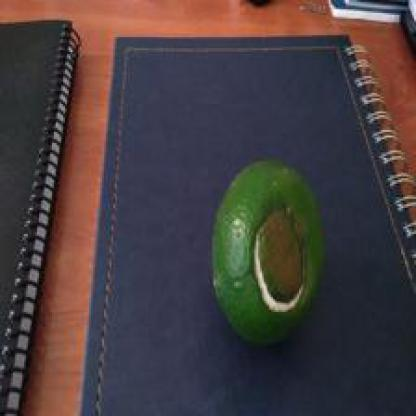orange_rotten: (176, 141, 364, 357)
